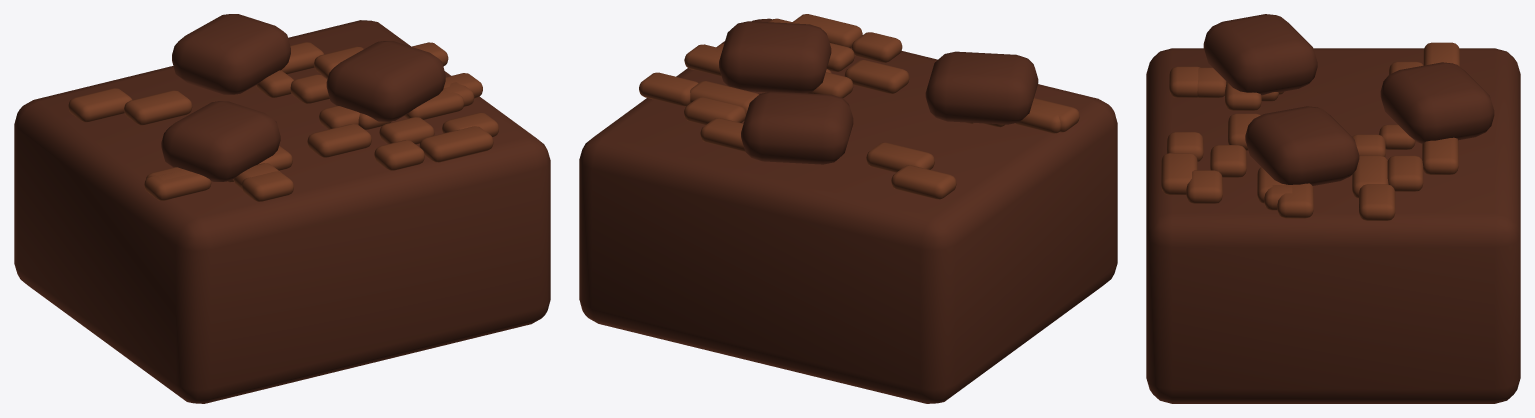
Rendered from Menu_ChocoBrownie.fbx.
3 views of the same model, side by side, from view 1: azimuth 30°, elevation 25°; view 2: azimuth 150°, elevation 25°; view 3: azimuth 270°, elevation 25° (orthographic).
Visible parts, largest first — view 1: Menu_ChocoBrownie.001; view 2: Menu_ChocoBrownie.001; view 3: Menu_ChocoBrownie.001.
Part boxes in pixels (x1,y1,x2,y2): Menu_ChocoBrownie.001: (14, 14, 550, 403); Menu_ChocoBrownie.001: (579, 14, 1117, 403); Menu_ChocoBrownie.001: (1146, 14, 1520, 403).
Bounding box in the file's own units: 50.07 × 30.4 × 42.91.
